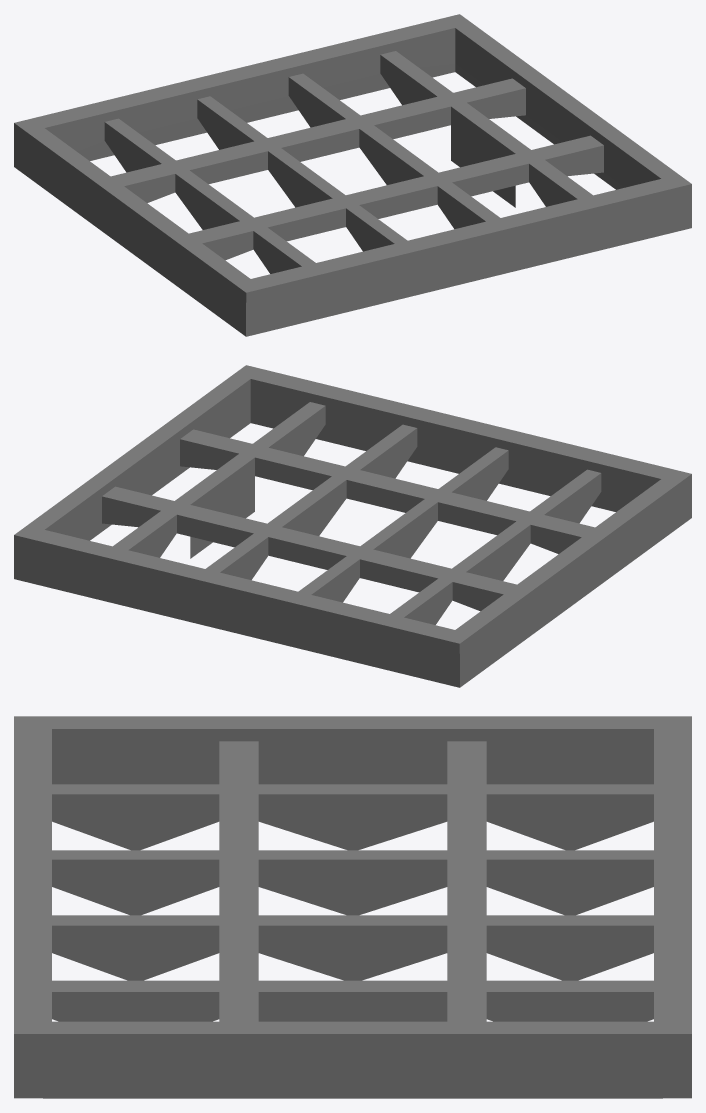
The model's file is submesh_Metal_Grill.fbx.
3 views of the same model, one above another, from view 1: azimuth 30°, elevation 25°; view 2: azimuth 150°, elevation 25°; view 3: azimuth 270°, elevation 25° (orthographic). The views are drawn at different scales.
Parts seen in each view (by area): view 1: submesh_Metal_Grill_1; view 2: submesh_Metal_Grill_1; view 3: submesh_Metal_Grill_1.
Part boxes in pixels (x1,y1,x2,y2): submesh_Metal_Grill_1: [14, 14, 691, 336]; submesh_Metal_Grill_1: [14, 365, 691, 687]; submesh_Metal_Grill_1: [14, 716, 691, 1098].
Bounding box in the file's own units: 1.27 × 0.1714 × 1.15.
